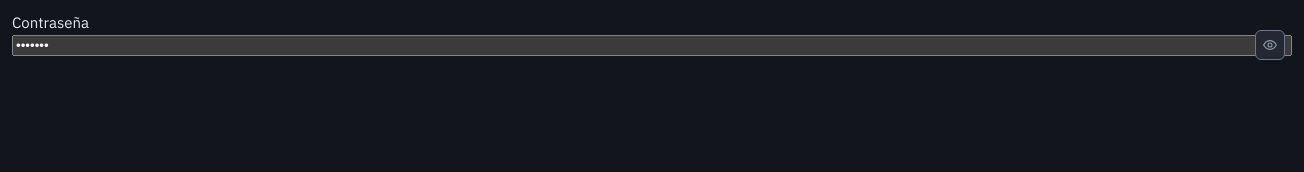
Test: PasswordField › empieza oculta y el ojo la muestra y la vuelve a ocultar
Click the button named "Mostrar contraseña" at (1270,45), box left=1255, top=30, right=1285, bottom=60
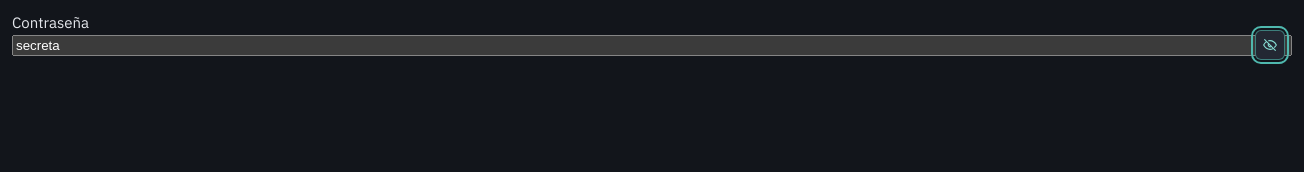
Check: the field labelled "Contraseña" shows its text, box left=12, top=34, right=1292, bottom=56
Click the button named "Ocultar contraseña" at (1270,45), box left=1255, top=30, right=1285, bottom=60
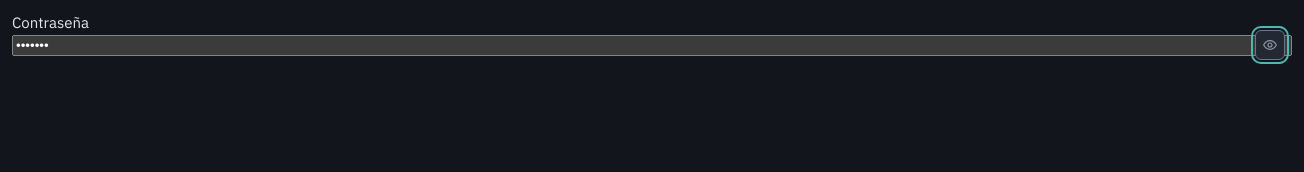
Check: the password field labelled "Contraseña" hides its text, box left=12, top=34, right=1292, bottom=56
